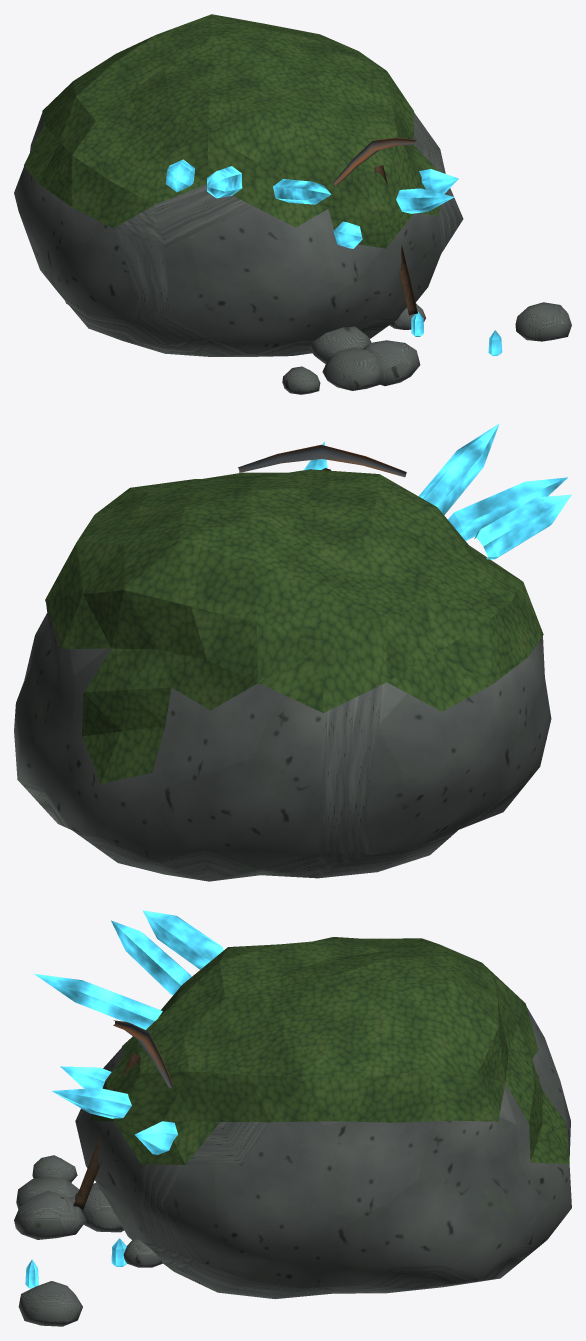
File: gather_mining_point.glb
3 views of the same model, one above another, from view 1: azimuth 30°, elevation 25°; view 2: azimuth 150°, elevation 25°; view 3: azimuth 270°, elevation 25° (orthographic). The views are drawn at different scales.
Visible parts, largest first — view 1: gather_mining_point__moss, gather_mining_point__stone_dark, gather_mining_point__crystal_cyan, gather_mining_point__iron, gather_mining_point__wood_dark; view 2: gather_mining_point__moss, gather_mining_point__stone_dark, gather_mining_point__crystal_cyan, gather_mining_point__iron; view 3: gather_mining_point__stone_dark, gather_mining_point__moss, gather_mining_point__crystal_cyan, gather_mining_point__iron, gather_mining_point__wood_dark.
Boxes of the visible parts, box(x1,y1,x2,y2) form: gather_mining_point__moss: box(24, 14, 440, 248); gather_mining_point__stone_dark: box(14, 112, 571, 394); gather_mining_point__crystal_cyan: box(165, 159, 502, 355); gather_mining_point__iron: box(333, 137, 416, 185); gather_mining_point__wood_dark: box(374, 165, 417, 315); gather_mining_point__moss: box(45, 469, 543, 783); gather_mining_point__stone_dark: box(14, 604, 551, 881); gather_mining_point__crystal_cyan: box(304, 423, 571, 559); gather_mining_point__iron: box(238, 444, 406, 477); gather_mining_point__stone_dark: box(14, 1006, 571, 1326); gather_mining_point__moss: box(90, 937, 569, 1164); gather_mining_point__crystal_cyan: box(25, 910, 223, 1288); gather_mining_point__iron: box(113, 1020, 173, 1087); gather_mining_point__wood_dark: box(73, 1054, 140, 1210).
Bounding box in the file's own units: 2.2 × 1.26 × 2.4.
Materials: 5 (5 with a texture image).
